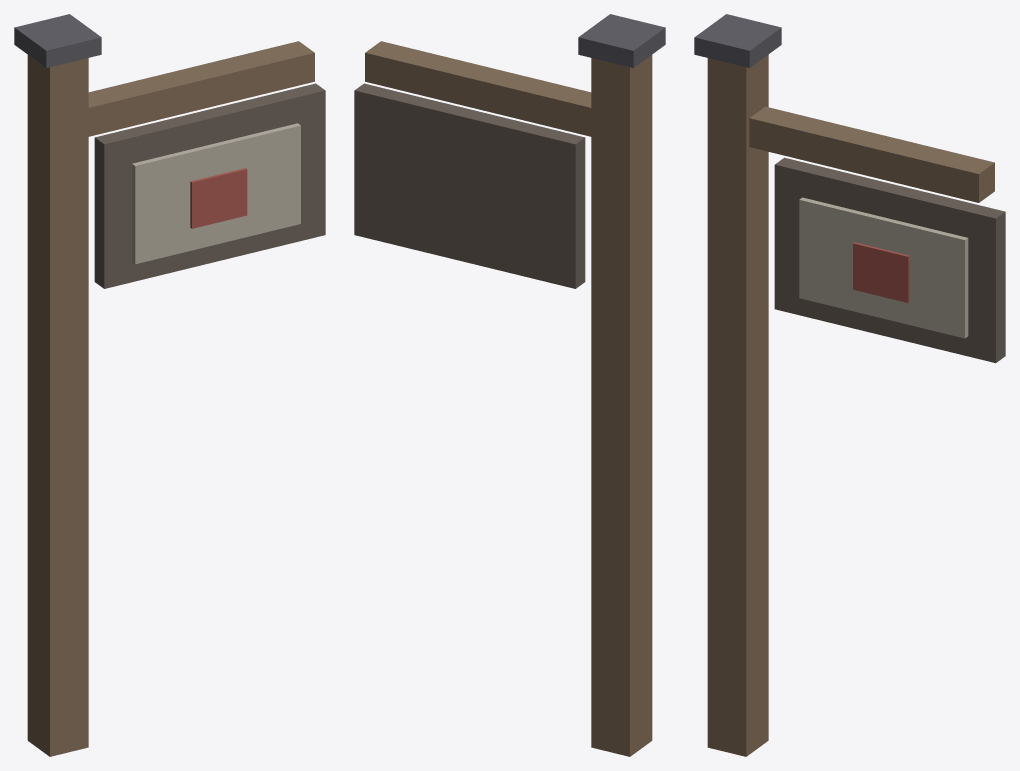
The model's file is sign.glb.
3 renders of one model, left to right at view 1: azimuth 30°, elevation 25°; view 2: azimuth 150°, elevation 25°; view 3: azimuth 330°, elevation 25°, orthographic.
Visible parts, largest first — view 1: sign; view 2: sign; view 3: sign.
Part boxes in pixels (x1,y1,x2,y2): sign: (14, 14, 325, 756); sign: (354, 14, 665, 756); sign: (694, 14, 1005, 756).
Bounding box in the file's own units: 1.05 × 2.46 × 0.2.
